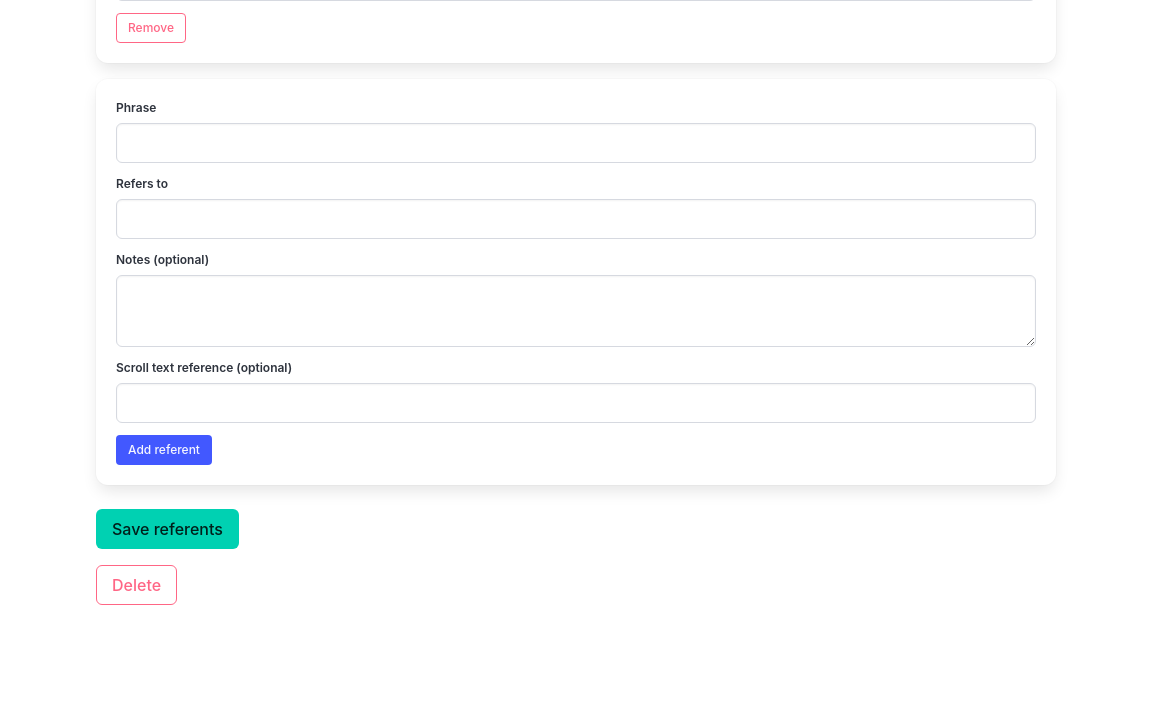
Test case: BookStudyDetailComponent › saves via BookStudyService.save and advances the displayed Updated timestamp
(page scrolled)
Click the button with test id "save-referents-button": (167, 529) [96,509,239,549]
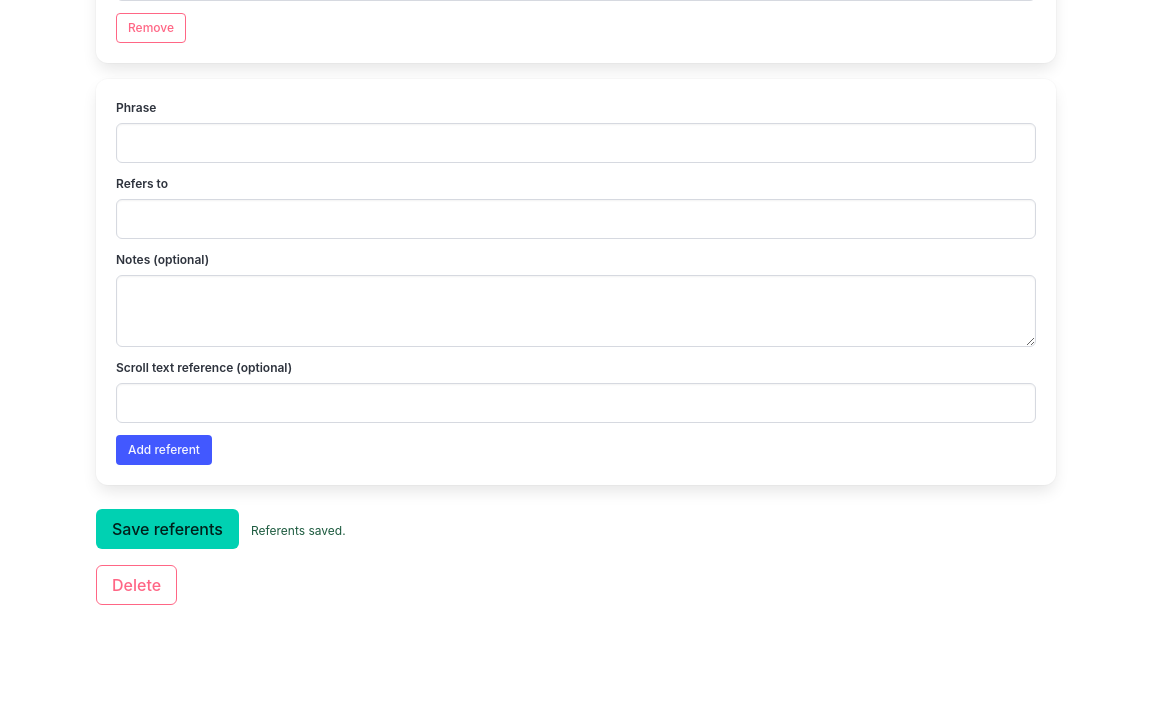
Expected: the text "Referents saved." is shown, [251,522,346,540]
